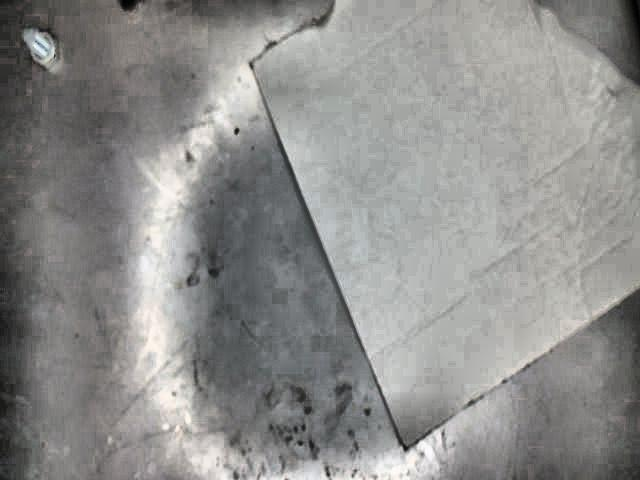Paper: (250, 1, 640, 451)
